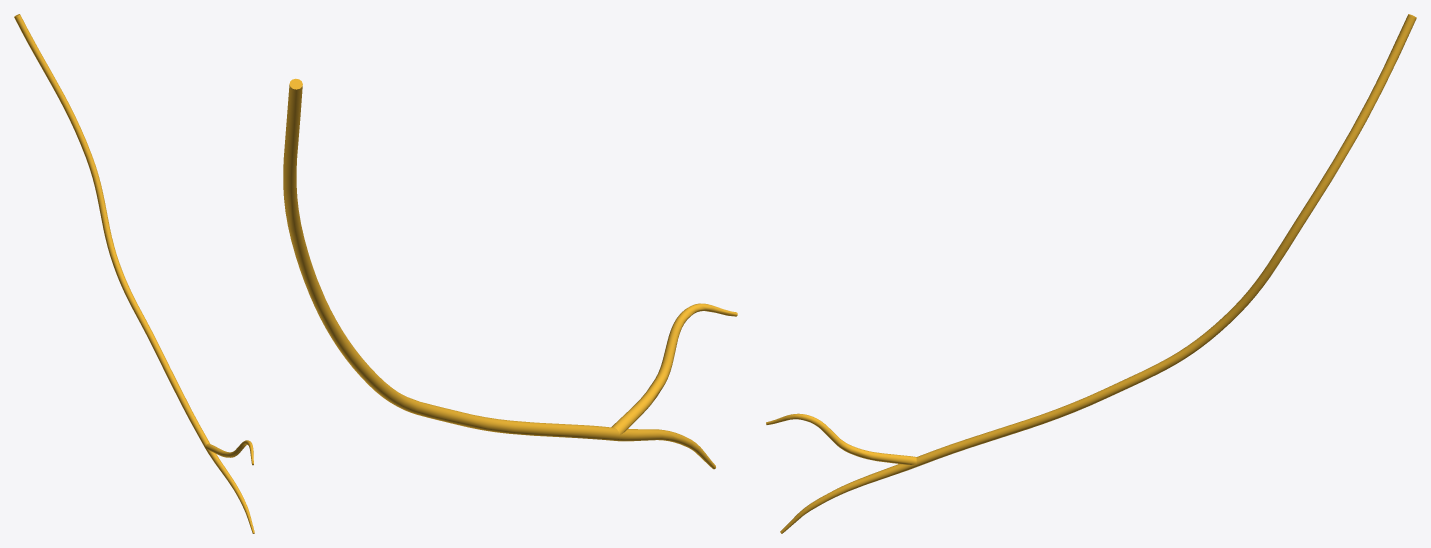
The model's file is nervoso-buccal-nerve-l.glb.
The picture shows the model from 3 angles, left to right: view 1: azimuth 30°, elevation 25°; view 2: azimuth 150°, elevation 25°; view 3: azimuth 270°, elevation 25°; orthographic projection. The views are drawn at different scales.
Visible parts, largest first — view 1: Buccal nerve.l; view 2: Buccal nerve.l; view 3: Buccal nerve.l.
Part boxes in pixels (bbox=[...]): Buccal nerve.l: bbox=[14, 14, 254, 533]; Buccal nerve.l: bbox=[283, 78, 737, 469]; Buccal nerve.l: bbox=[766, 14, 1416, 533].
Size of the model in its own units: 0.00426 by 0.0355 by 0.041.
